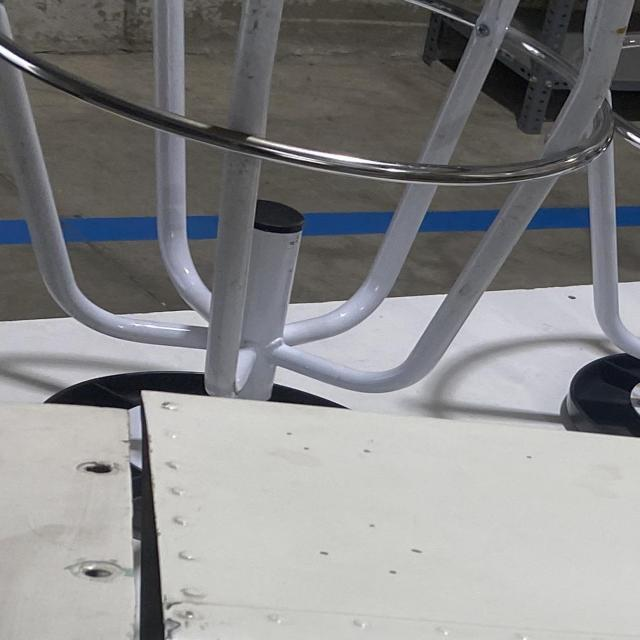Missing-head: (63, 557, 123, 580), (73, 458, 115, 473)
Paint-off: (161, 609, 187, 640), (387, 567, 401, 577), (409, 548, 424, 554), (319, 551, 330, 556)
